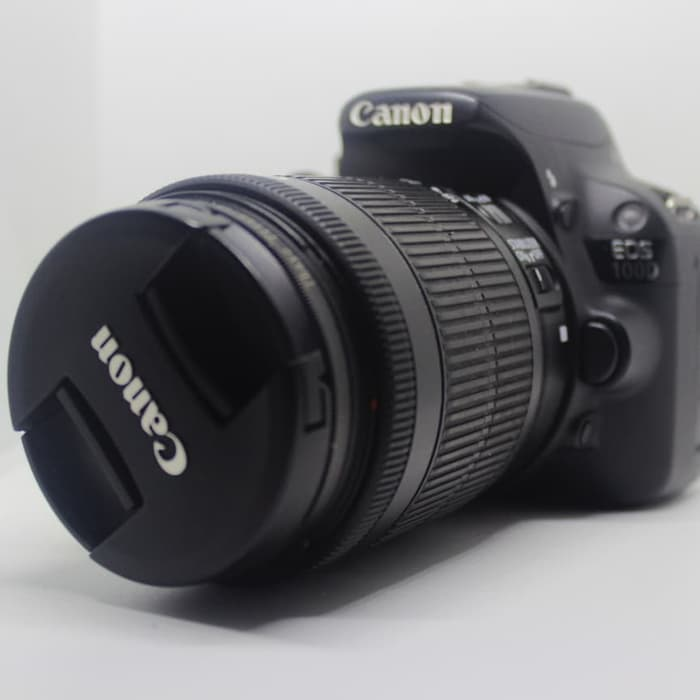kamera: (1, 71, 700, 618)
